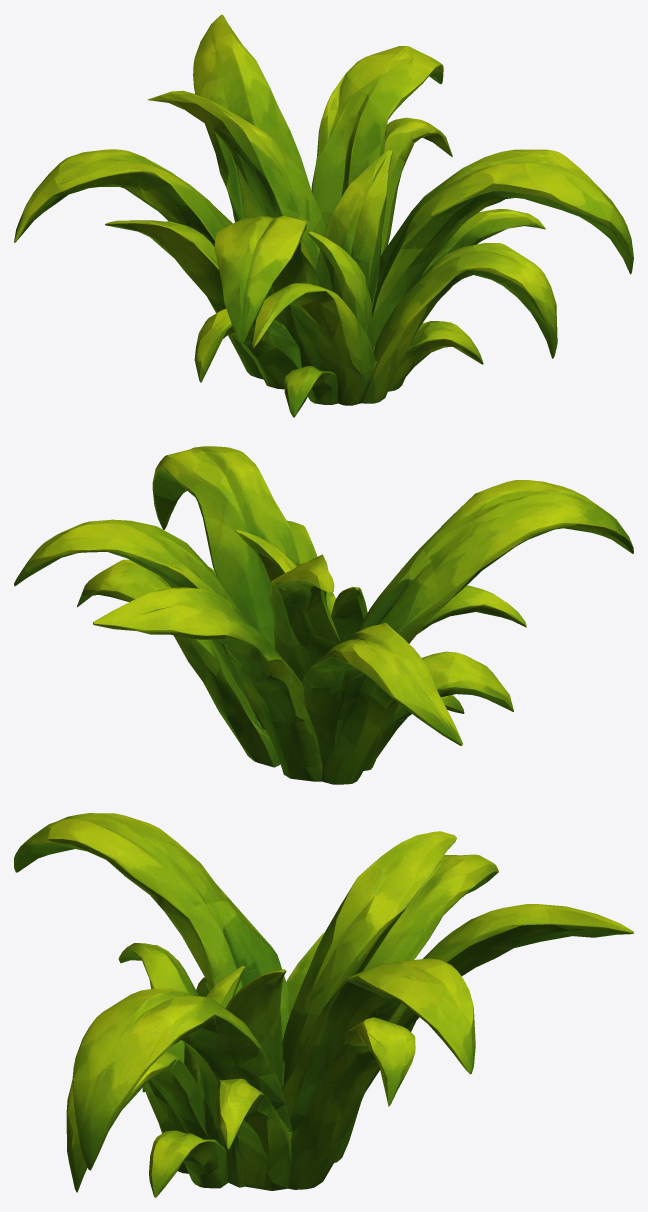
Rendered from verdant-grass-crown.glb.
3 renders of one model, top to bottom at view 1: azimuth 30°, elevation 25°; view 2: azimuth 150°, elevation 25°; view 3: azimuth 270°, elevation 25°, orthographic. The views are drawn at different scales.
Visible parts, largest first — view 1: output_unwrapped; view 2: output_unwrapped; view 3: output_unwrapped.
Part boxes in pixels (left/top/right/bottom): output_unwrapped: left=14, top=14, right=633, bottom=417; output_unwrapped: left=14, top=446, right=633, bottom=784; output_unwrapped: left=14, top=813, right=633, bottom=1197.
Bounding box in the file's own units: 0.5708 × 0.3 × 0.5887.
Materials: 1 (1 with a texture image).
